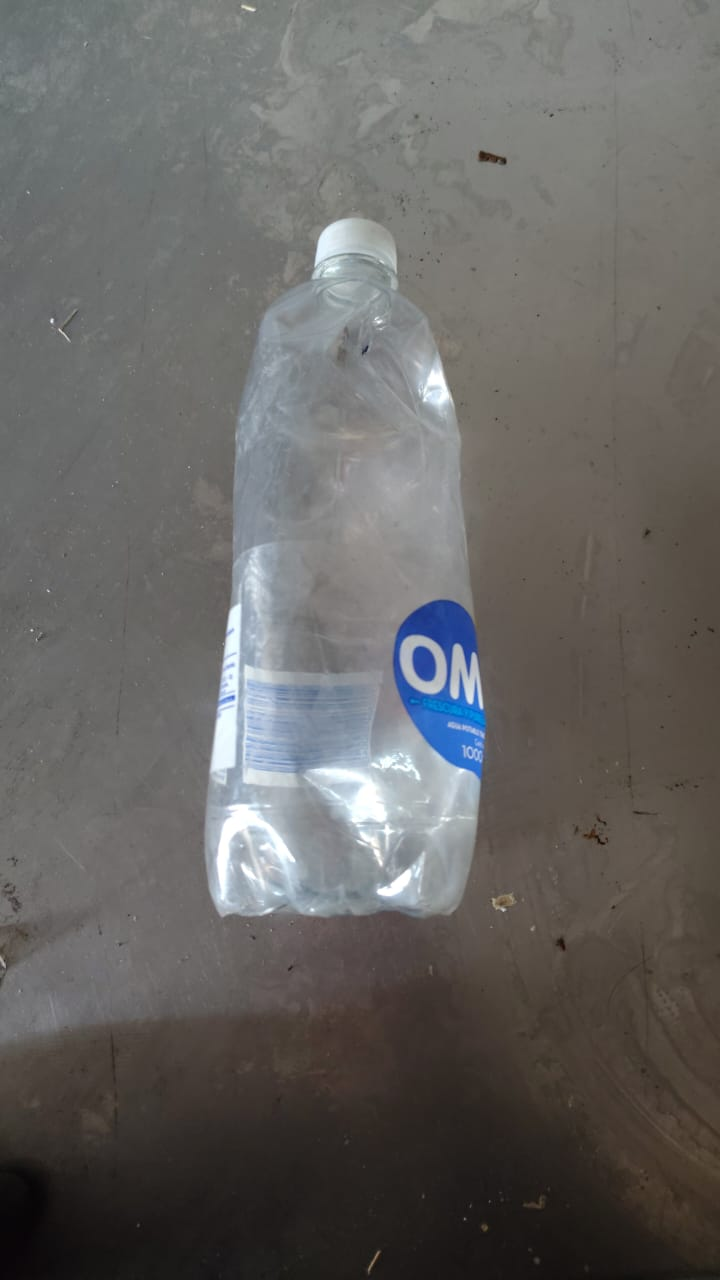Plastico: (202, 216, 484, 919)
